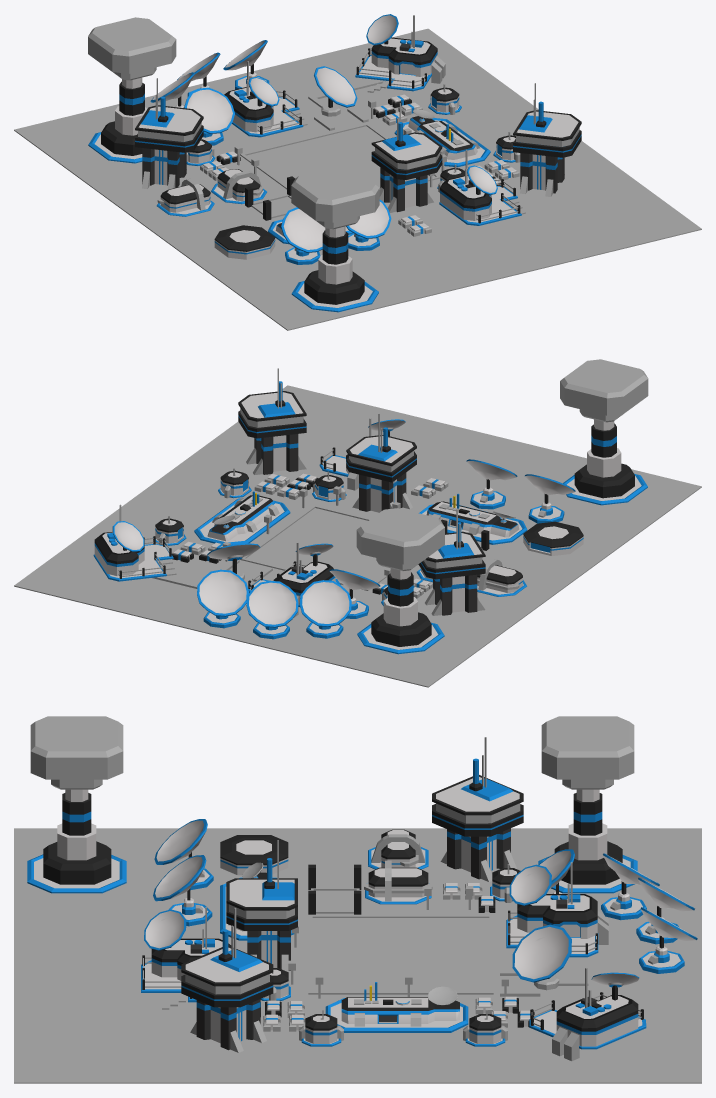
The model's file is Scene_NotFin.fbx.
The picture shows the model from 3 angles, top to bottom: view 1: azimuth 30°, elevation 25°; view 2: azimuth 150°, elevation 25°; view 3: azimuth 270°, elevation 25°; orthographic projection. The views are drawn at different scales.
Parts seen in each view (by area): view 1: Ground, pCube103 (×2), pCube22 (×5), pCube26 (×2), pCube39 (×2), pCube102 (×2), pCube25 (×2), pCylinder1 (×3), pCube101 (×2), CommunicationCenter:pCube26, pCube34 (×2), pCube86 (+10 smaller); view 2: Ground, pCube103 (×2), pCube22 (×6), pCube26 (×2), pCube102 (×2), pCube25 (×2), pCube101 (×2), pCube1 (×2), CommunicationCenter:pCube26, pCube100 (×2), pCube87 (×2), pCube86 (+8 smaller); view 3: Ground, pCube103 (×2), pCube26 (×2), pCube22 (×6), pCube102 (×2), pCube25 (×2), pCube39 (×2), pCylinder1 (×2), pCube101 (×2), CommunicationCenter:pCube26, pCube100 (×2), CommandCenter:pCube39 (+13 smaller).
Boxes of the visible parts, x1,y1,x2,y2 form: Ground: (14,28,701,330); pCube103 (×2): (88,17,379,229); pCube22 (×5): (150,40,391,252); pCube26 (×2): (135,105,581,157); pCube39 (×2): (371,37,491,220); pCube102 (×2): (115,77,352,284); pCube25 (×2): (142,148,564,193); pCylinder1 (×3): (314,14,497,194); pCube101 (×2): (101,121,364,304); CommunicationCenter:pCube26: (371,132,442,179); pCube34 (×2): (355,55,521,225); pCube86: (214,225,275,259); Ground: (14,385,701,687); pCube103 (×2): (356,359,648,570); pCube22 (×6): (197,459,575,627); pCube26 (×2): (238,391,485,579); pCube102 (×2): (383,419,621,626); pCube25 (×2): (254,434,477,615); pCube101 (×2): (371,463,634,646); pCube1 (×2): (207,495,519,541); CommunicationCenter:pCube26: (346,435,416,482); pCube100 (×2): (357,473,647,654); pCube87 (×2): (194,497,527,544); pCube86: (523,521,583,555); Ground: (14,828,701,1083); pCube103 (×2): (30,716,634,789); pCube26 (×2): (181,775,523,1007); pCube22 (×6): (153,819,697,940); pCube102 (×2): (57,789,607,860); pCube25 (×2): (196,828,510,1050); pCube39 (×2): (151,938,638,1046); pCylinder1 (×2): (144,909,571,982); pCube101 (×2): (43,841,622,884); CommunicationCenter:pCube26: (226,878,297,930); pCube100 (×2): (27,854,637,893); CommandCenter:pCube39: (517,894,597,938).
Size of the model in its own units: 80.43 by 21.88 by 92.
